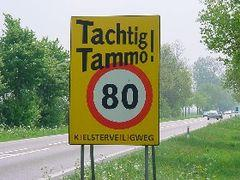Speed Limit -80-: (85, 61, 153, 130)
